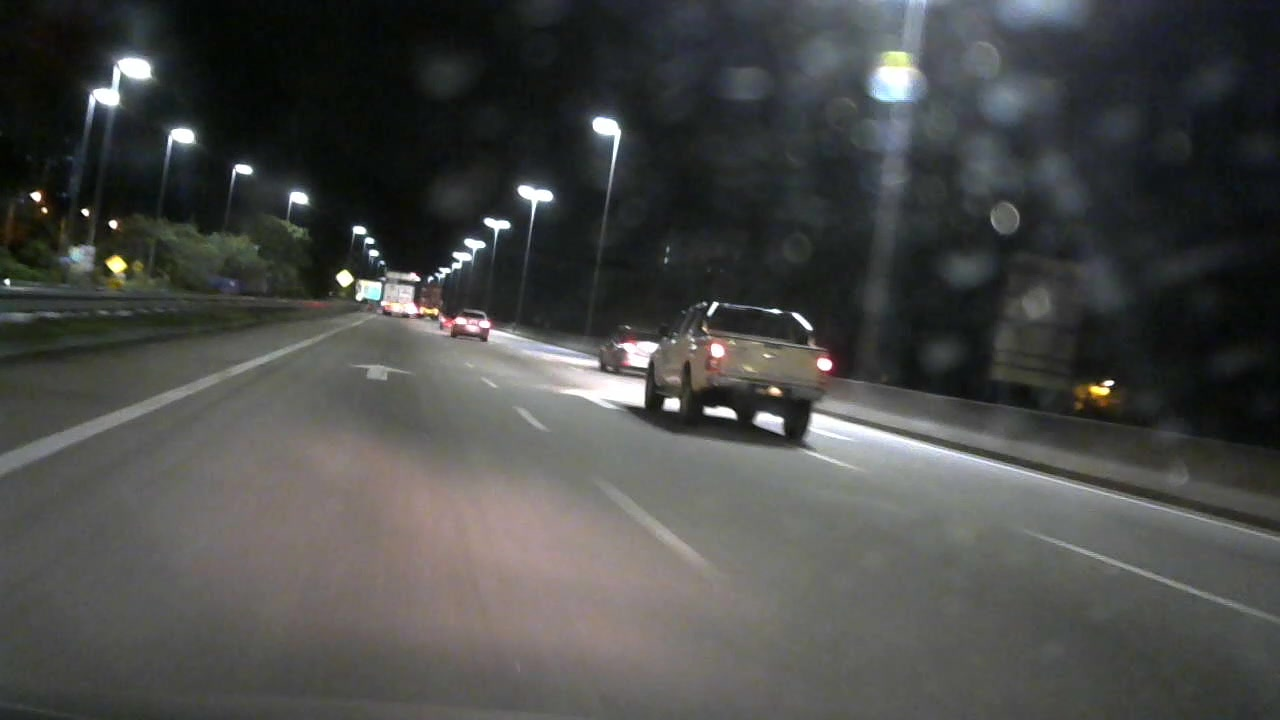Car: (643, 297, 837, 434), (590, 324, 662, 372), (445, 307, 502, 343)
